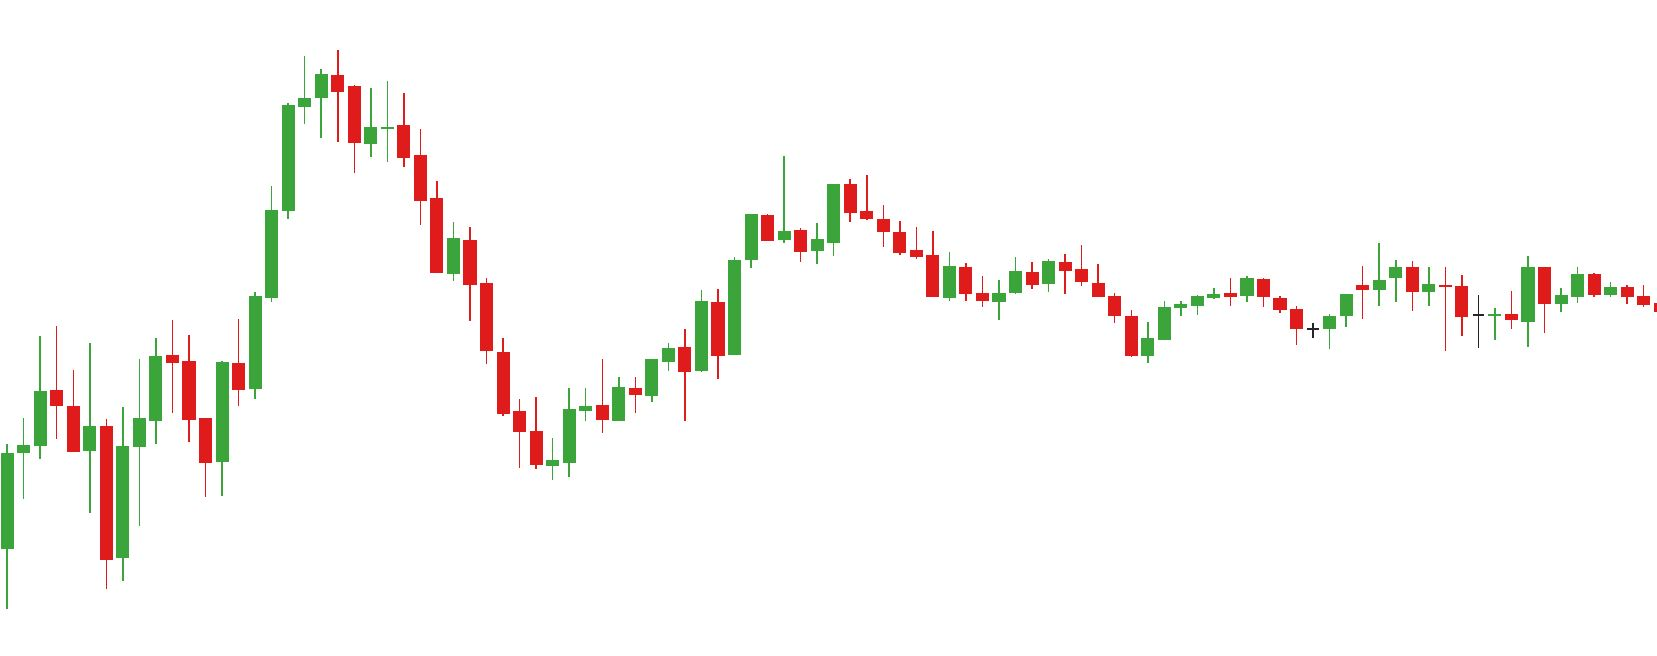buy: (991, 276, 1173, 362)
